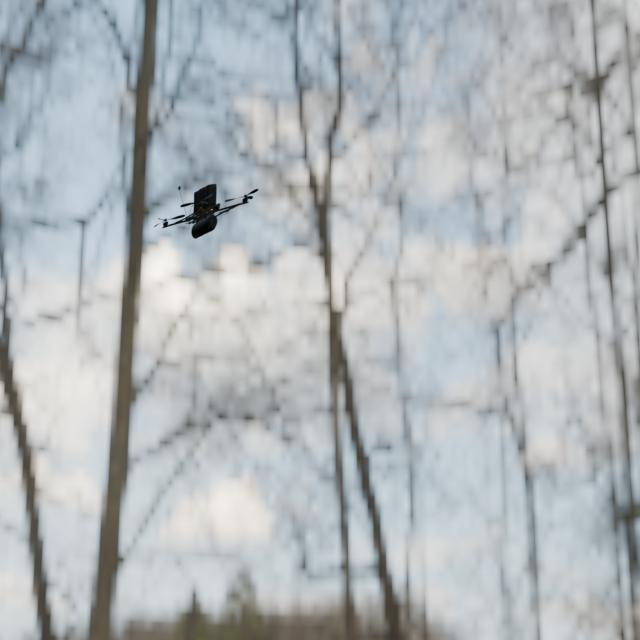drone: (154, 184, 258, 239)
